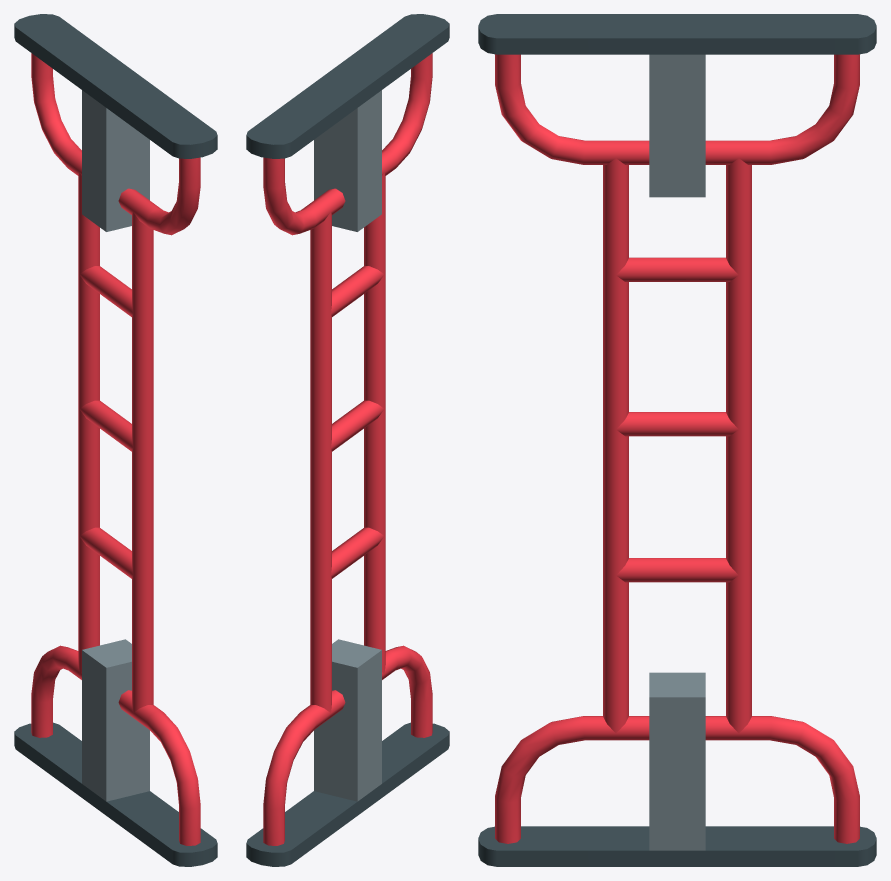
The model's file is Column_009.fbx.
3 renders of one model, left to right at view 1: azimuth 30°, elevation 25°; view 2: azimuth 150°, elevation 25°; view 3: azimuth 270°, elevation 25°, orthographic. The views are drawn at different scales.
Visible parts, largest first — view 1: Column_009; view 2: Column_009; view 3: Column_009.
Boxes of the visible parts, x1,y1,x2,y2 form: Column_009: (14, 14, 217, 866); Column_009: (246, 14, 449, 866); Column_009: (478, 14, 876, 866).
Bounding box in the file's own units: 24.06 × 166 × 380.
